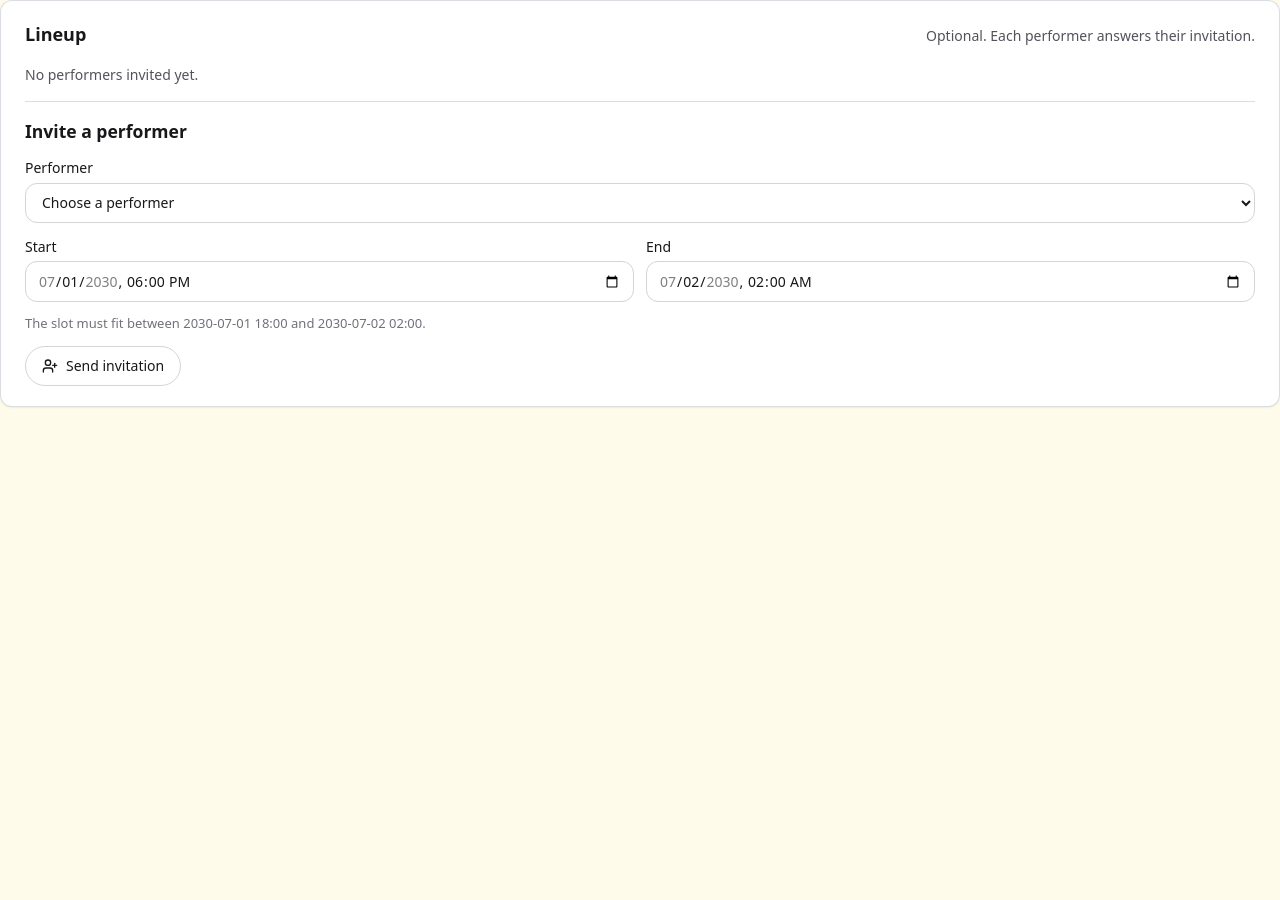
Test: LineupSection › invites a performer for a slot inside the plan's time
The image size is (1280, 900).
Select "DJ Test (techno)" in the dropdown labelled "Performer" at (640, 203), box [25,183,1255,223]
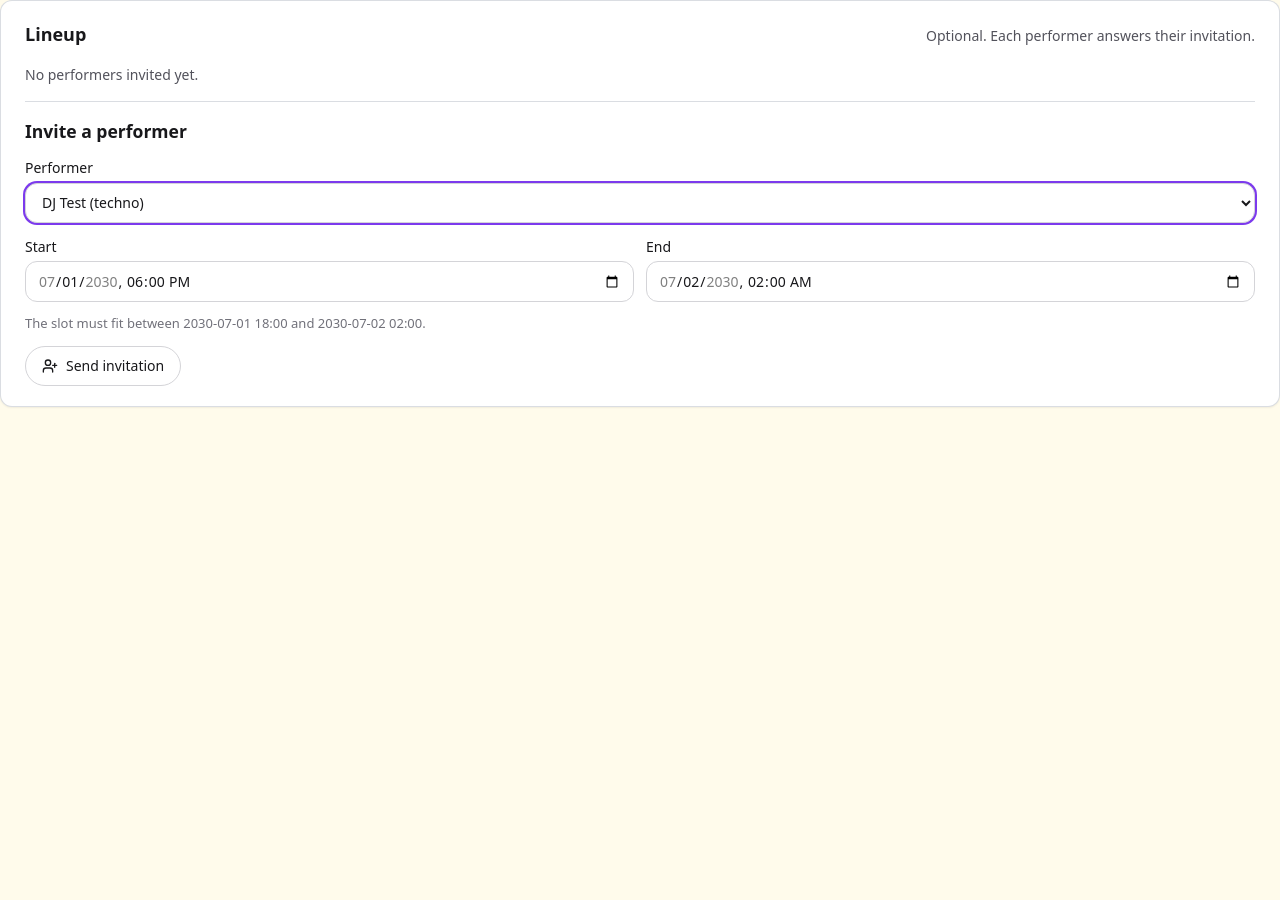
Replace the text in the field labelled "End" with "2030-07-03T05:00" at (950, 282), box [646,261,1255,302]
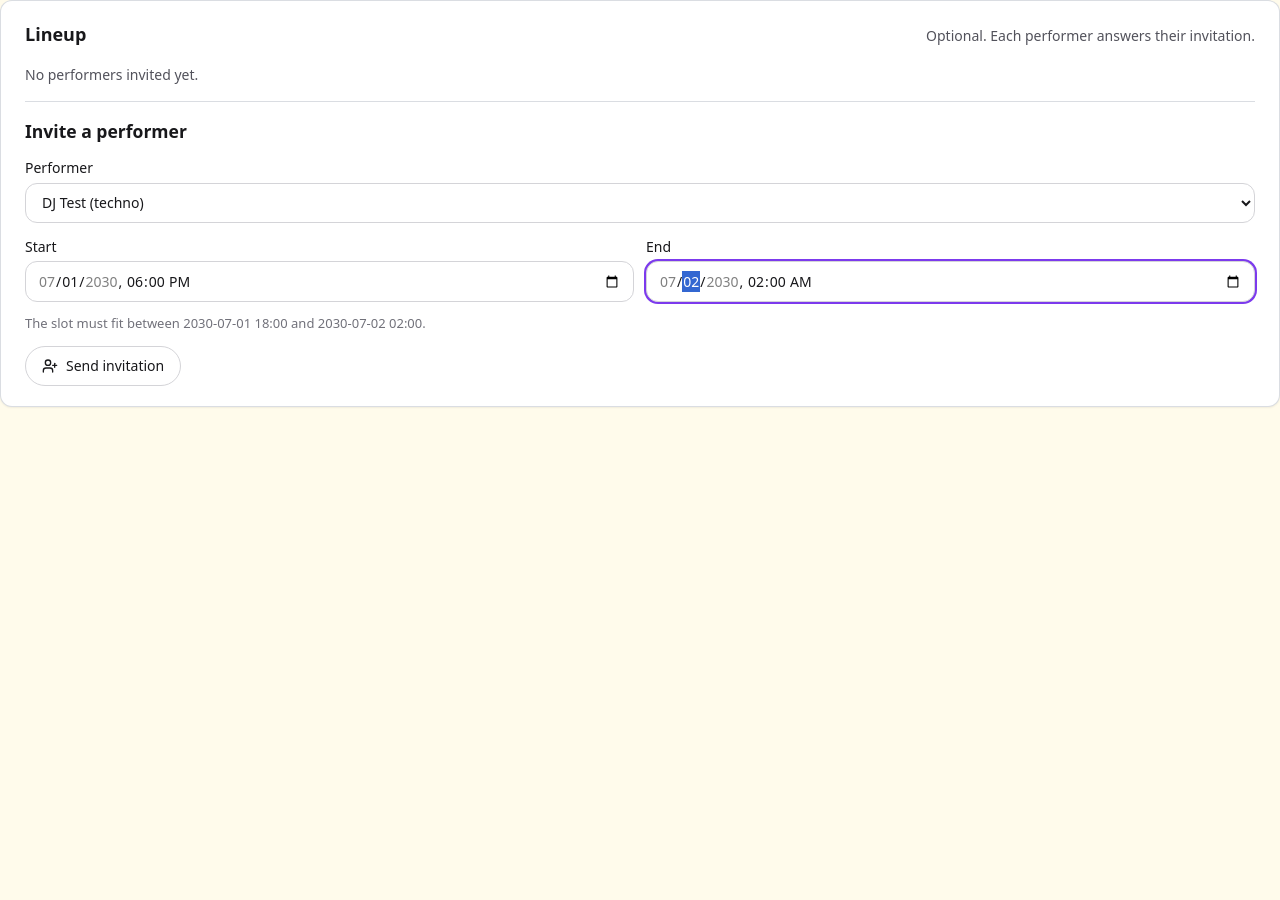
Click the button "Send invitation".
click(103, 366)  # box [25,346,181,386]
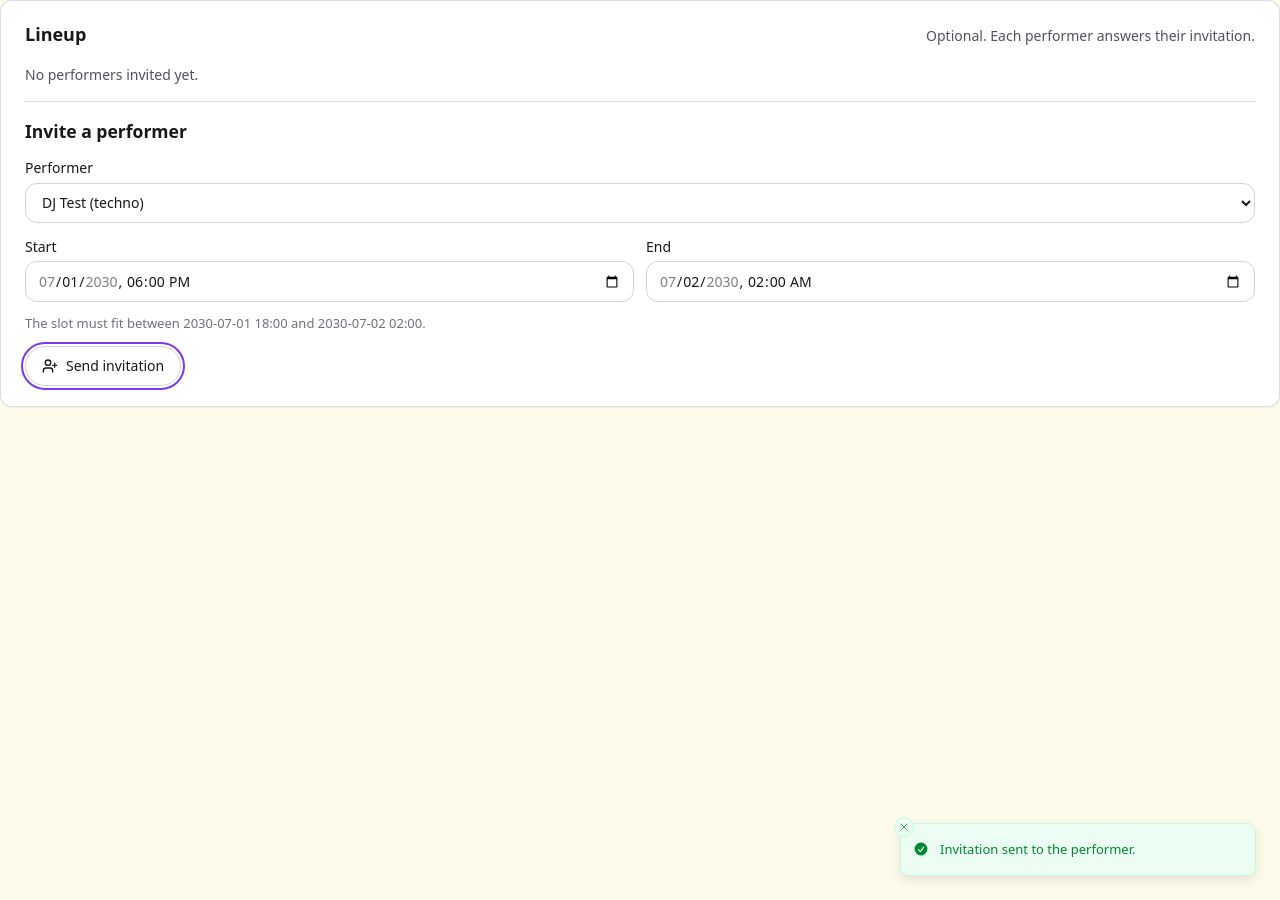
Now the text "Invitation sent to the performer." is shown, box [940,840,1135,859]
